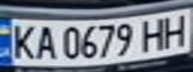0: (57, 24, 81, 61)
6: (78, 22, 100, 61)
7: (97, 21, 118, 59)
9: (112, 20, 139, 56)
A: (30, 22, 57, 61)
H: (136, 15, 172, 52), (157, 11, 193, 48)
K: (6, 20, 39, 61)
